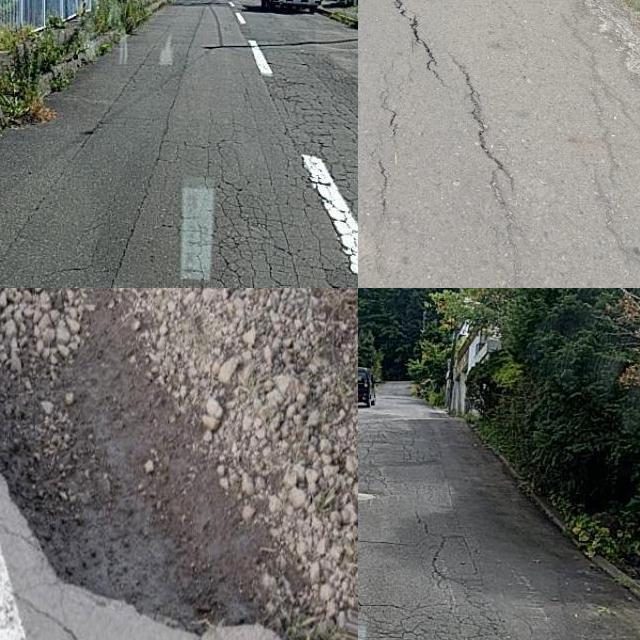Memanjang: (449, 53, 522, 192), (388, 0, 455, 84)
Pinggir: (0, 288, 318, 637)
Retak Buaya: (250, 55, 358, 222)
